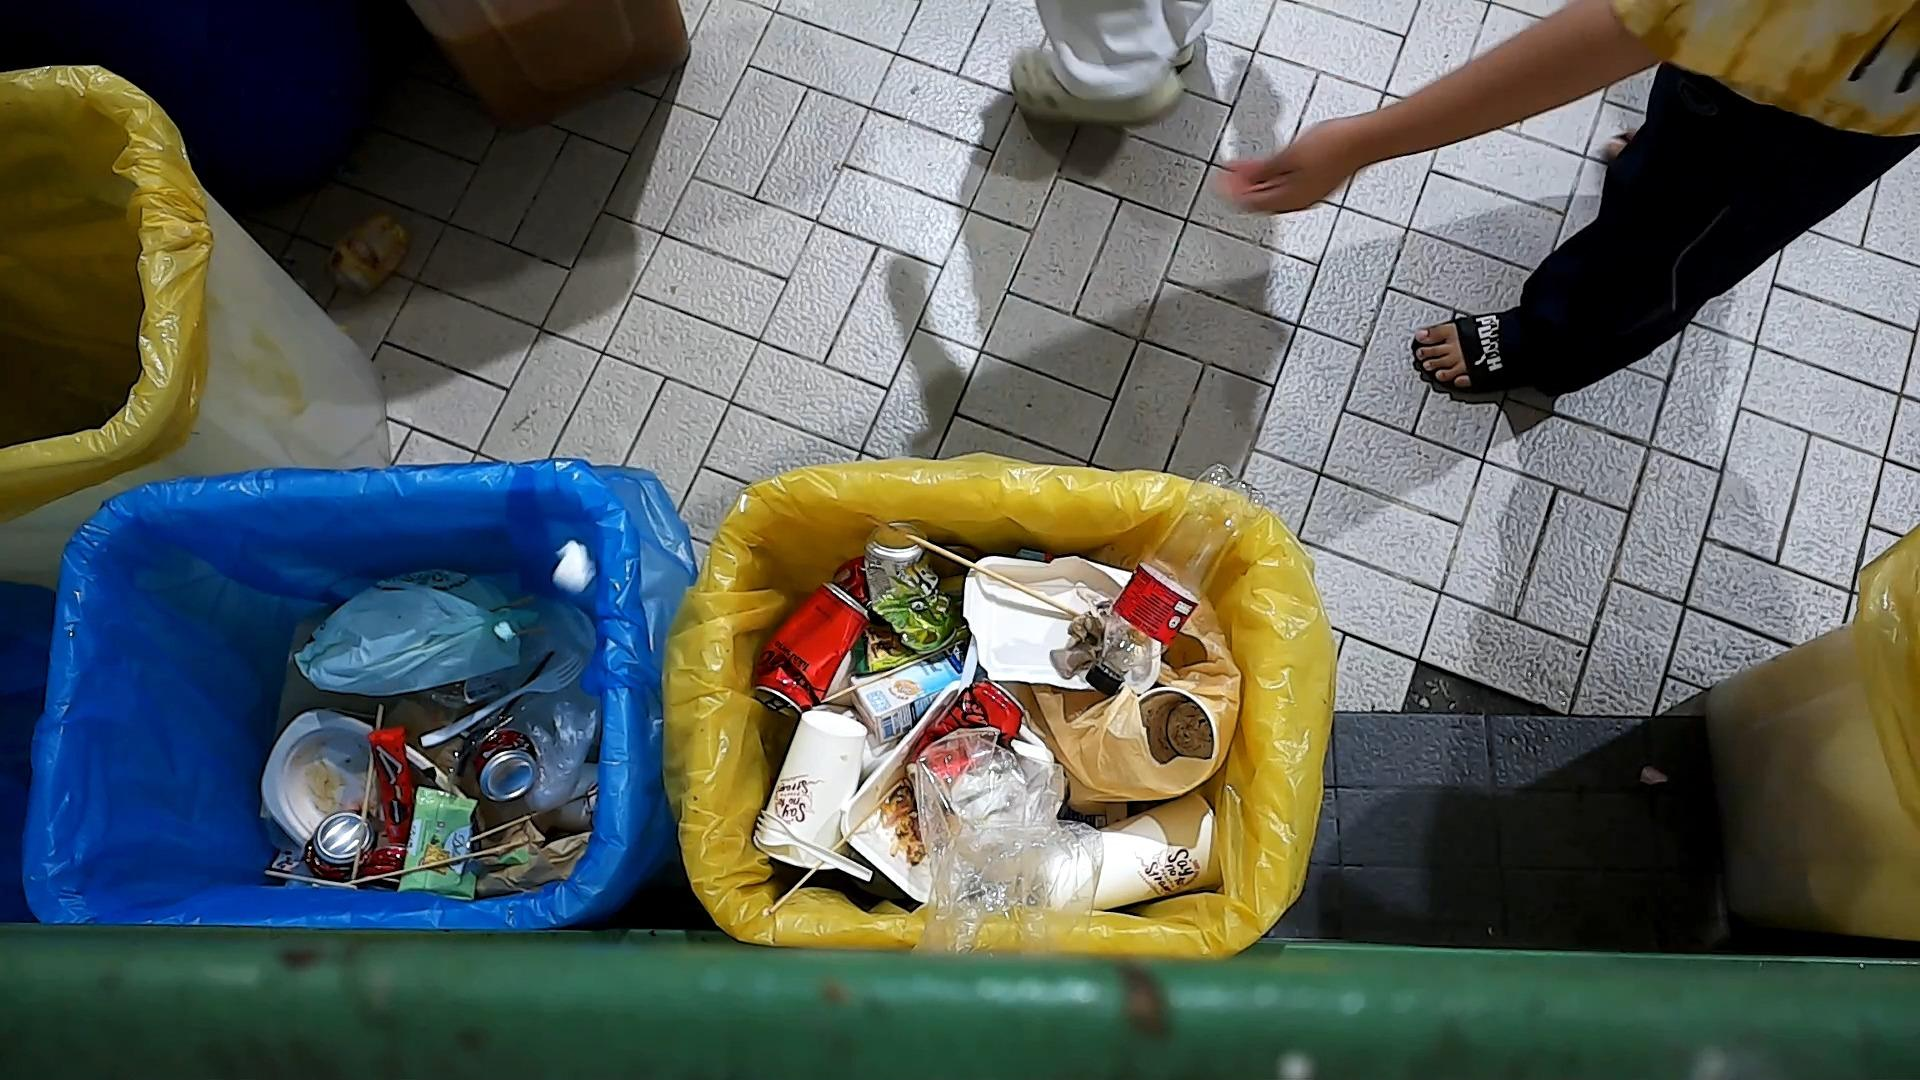can: (749, 575, 874, 721), (899, 675, 1026, 795), (864, 514, 957, 655), (301, 806, 378, 884), (469, 728, 539, 807)
dirty food container: (965, 549, 1174, 695)
filled plastic bag: (1033, 595, 1250, 812), (285, 562, 545, 702)
food container: (258, 704, 436, 852)
milk carton: (841, 632, 994, 745)
paper bag: (479, 803, 595, 902)
plastic bag: (903, 721, 1108, 959), (480, 576, 608, 820)
plastic bottle: (1085, 455, 1278, 700)
plastic cutlery: (447, 637, 562, 791), (417, 650, 589, 752), (752, 804, 876, 884)
snack packaging: (394, 782, 534, 906), (367, 724, 422, 848)
sticks: (446, 562, 688, 687), (868, 514, 1088, 620), (766, 778, 906, 916), (811, 632, 972, 712), (306, 837, 531, 884), (343, 695, 389, 891), (464, 787, 603, 844), (262, 868, 359, 889)
tissue paper: (539, 524, 622, 603)
zero waste cup: (1034, 787, 1224, 913), (752, 708, 869, 873)
